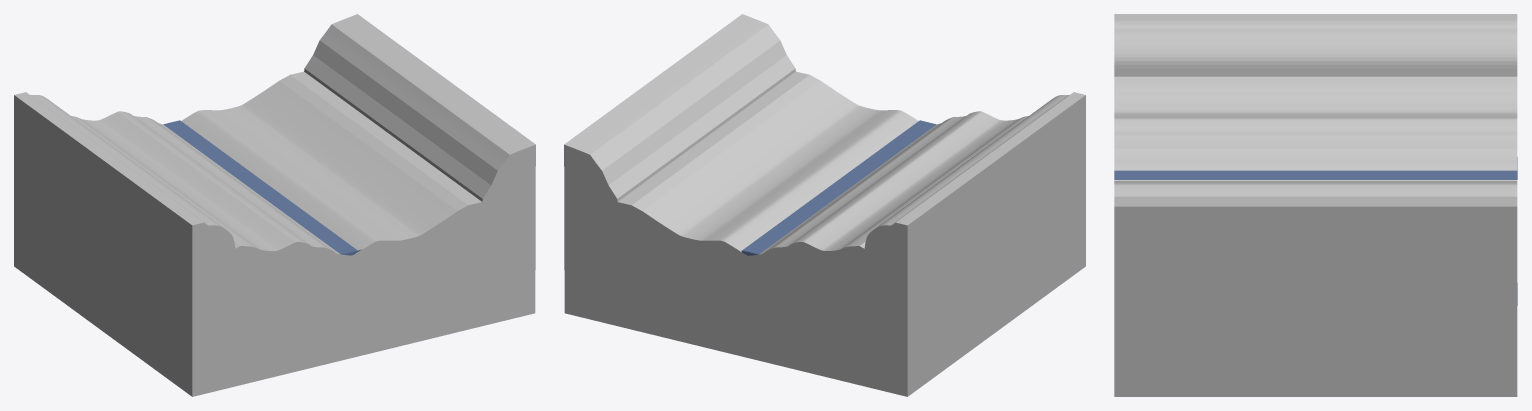
File: 堆积埋藏阶地.gltf
3 renders of one model, left to right at view 1: azimuth 30°, elevation 25°; view 2: azimuth 150°, elevation 25°; view 3: azimuth 270°, elevation 25°, orthographic. The views are drawn at different scales.
Parts seen in each view (by area): view 1: node_1_-58694, node_2_-59598, node_1_-59540, node_ (3)_-64768; view 2: node_1_-58694, node_2_-59598, node_ (3)_-64768; view 3: node_1_-58694, node_2_-59598, node_ (3)_-64768.
Part boxes in pixels (x1,y1,x2,y2): node_1_-58694: (14, 14, 535, 396); node_2_-59598: (71, 71, 483, 370); node_1_-59540: (244, 269, 473, 375); node_ (3)_-64768: (163, 120, 357, 254); node_1_-58694: (564, 14, 1085, 396); node_2_-59598: (615, 71, 1028, 369); node_ (3)_-64768: (742, 120, 936, 254); node_1_-58694: (1114, 14, 1517, 396); node_2_-59598: (1114, 76, 1517, 196); node_ (3)_-64768: (1114, 157, 1517, 179).
Bounding box in the file's own units: 10.36 × 4.94 × 9.31.
